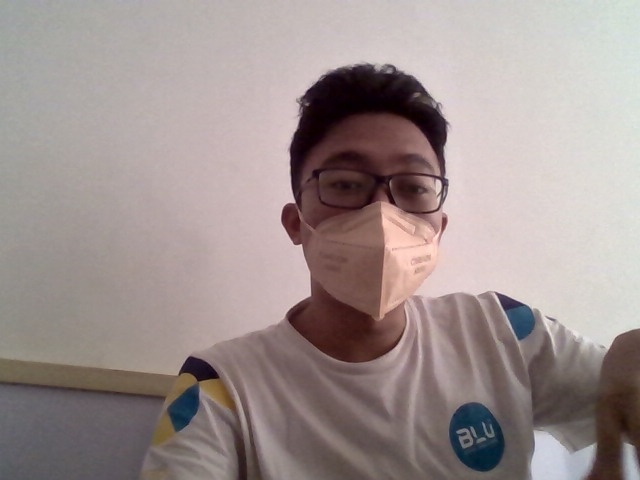Awake: (278, 60, 453, 368)
